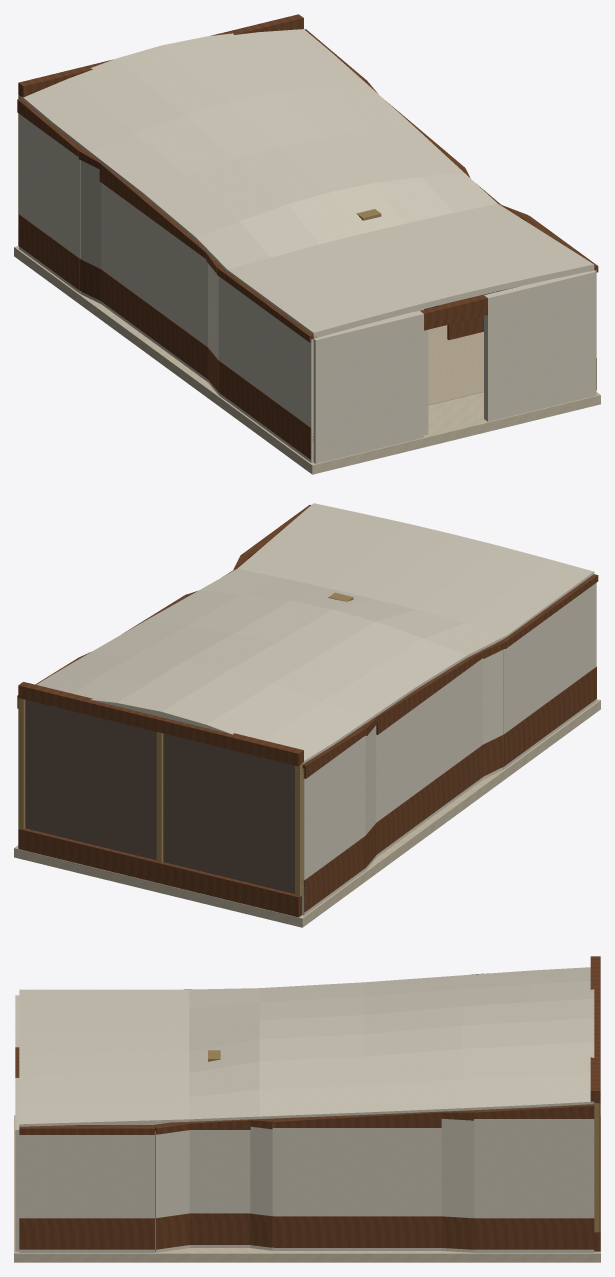
File: shell.glb
The picture shows the model from 3 angles, top to bottom: view 1: azimuth 30°, elevation 25°; view 2: azimuth 150°, elevation 25°; view 3: azimuth 270°, elevation 25°; orthographic projection.
Parts seen in each view (by area): view 1: SC_Runtime_ivory_enamel, SC_Runtime_warm_walnut, SC_Runtime_warm_stone, SC_Runtime_oatmeal_weave; view 2: SC_Runtime_ivory_enamel, SC_Runtime_SC_SourceDirectionalPrivacy_NOT_RUNTIME_ACCEPTED, SC_Runtime_warm_walnut, SC_Runtime_warm_stone, SC_Runtime_champagne_metal; view 3: SC_Runtime_ivory_enamel, SC_Runtime_warm_walnut, SC_Runtime_warm_stone, SC_Runtime_champagne_metal.
Part boxes in pixels (left/top/right/bottom): SC_Runtime_ivory_enamel: left=19, top=29, right=596, bottom=463; SC_Runtime_warm_walnut: left=17, top=14, right=598, bottom=459; SC_Runtime_warm_stone: left=14, top=246, right=600, bottom=474; SC_Runtime_oatmeal_weave: left=414, top=292, right=495, bottom=405; SC_Runtime_ivory_enamel: left=36, top=503, right=596, bottom=915; SC_Runtime_SC_SourceDirectionalPrivacy_NOT_RUNTIME_ACCEPTED: left=25, top=700, right=294, bottom=893; SC_Runtime_warm_walnut: left=17, top=505, right=598, bottom=917; SC_Runtime_warm_stone: left=14, top=699, right=600, bottom=927; SC_Runtime_champagne_metal: left=18, top=592, right=353, bottom=896; SC_Runtime_ivory_enamel: left=15, top=967, right=594, bottom=1252; SC_Runtime_warm_walnut: left=15, top=956, right=600, bottom=1251; SC_Runtime_warm_stone: left=14, top=1115, right=600, bottom=1262; SC_Runtime_champagne_metal: left=208, top=1050, right=599, bottom=1232.
Bounding box in the file's own units: 7.2 × 4.25 × 12.9.
Materials: 9 (7 with a texture image).
